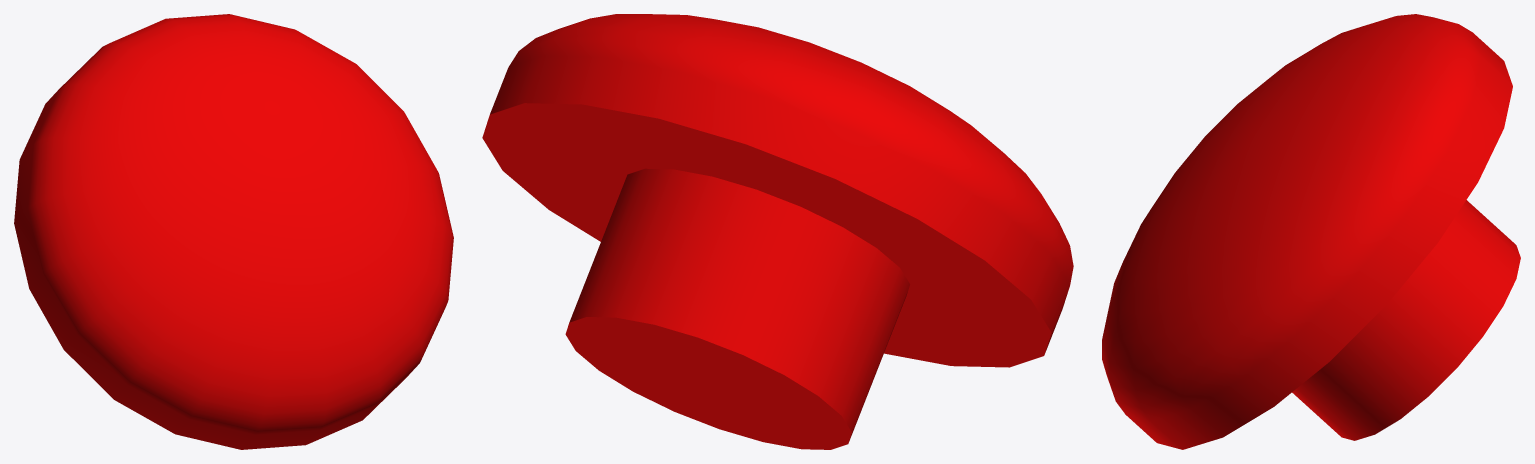
The picture shows the model from 3 angles, left to right: view 1: azimuth 30°, elevation 25°; view 2: azimuth 150°, elevation 25°; view 3: azimuth 270°, elevation 25°; orthographic projection. The views are drawn at different scales.
Parts seen in each view (by area): view 1: pSphere3; view 2: pSphere3; view 3: pSphere3.
Part boxes in pixels (x1,y1,x2,y2): pSphere3: (14,14,453,449); pSphere3: (482,14,1073,449); pSphere3: (1102,14,1520,449).
Size of the model in its own units: 2 by 1.62 by 1.62.
